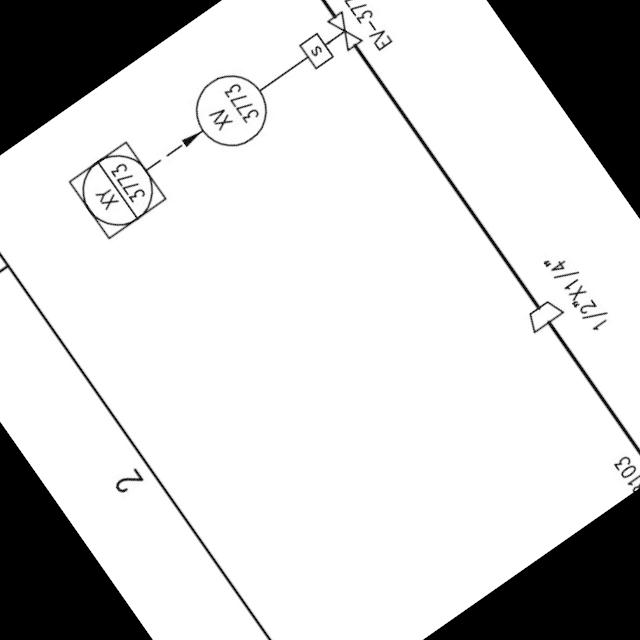SP: (512, 286, 572, 341)
SV: (284, 0, 370, 81)
